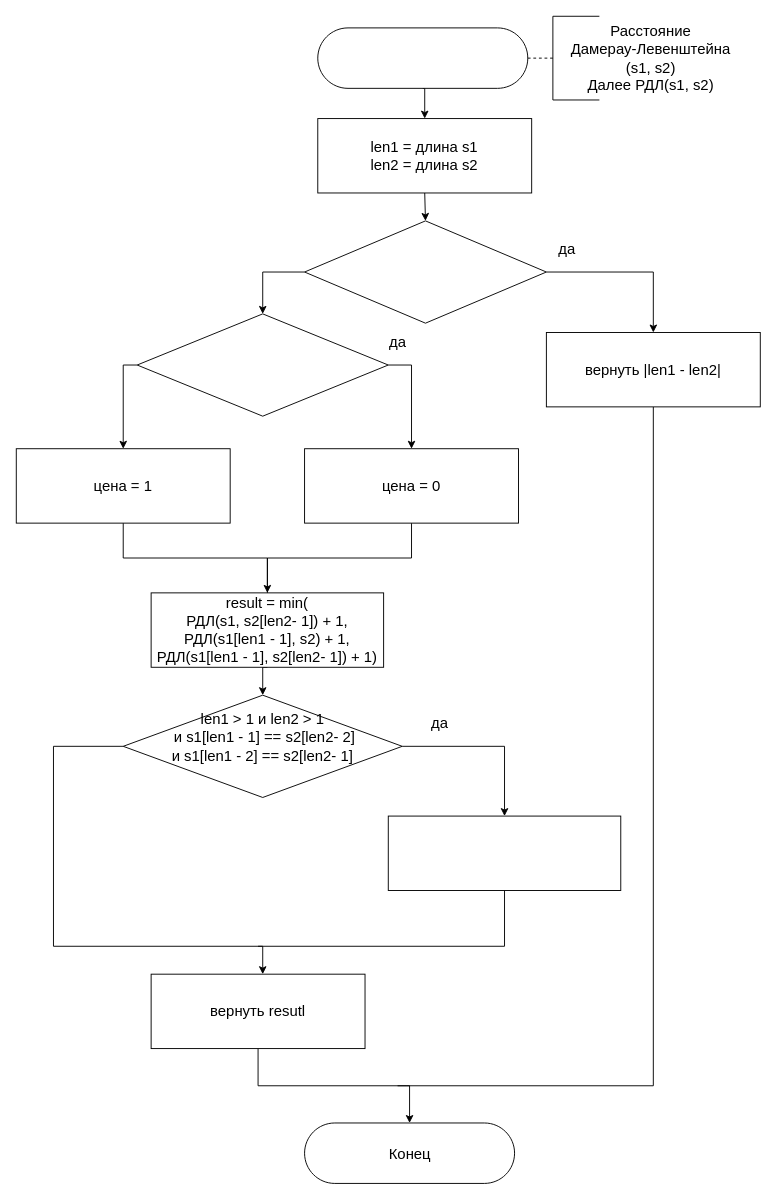
Image size: 777x1200. Some labels were removed from this diagram. The shapes that lost their labels are listed below. From the top down, each one's centre as x and y in pixels, then its label:
pixel 422 57: Начало
pixel 425 271: len1 == 0 или len2 == 0
pixel 262 364: s1[len1 - 1] == s2[len2- 1]
pixel 504 852: result = min(result, РДЛ(s1[len1 - 2], s2[len2- 2]) + 1)
